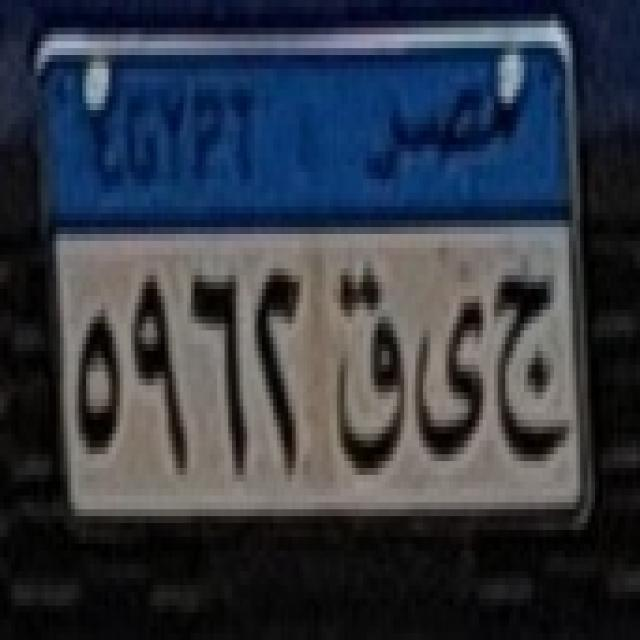2: (250, 253, 310, 485)
5: (72, 303, 130, 463)
6: (188, 254, 253, 490)
9: (131, 268, 192, 481)
Taa: (330, 257, 416, 492)
Yeeh: (417, 280, 485, 468)
geem: (492, 270, 566, 478)
